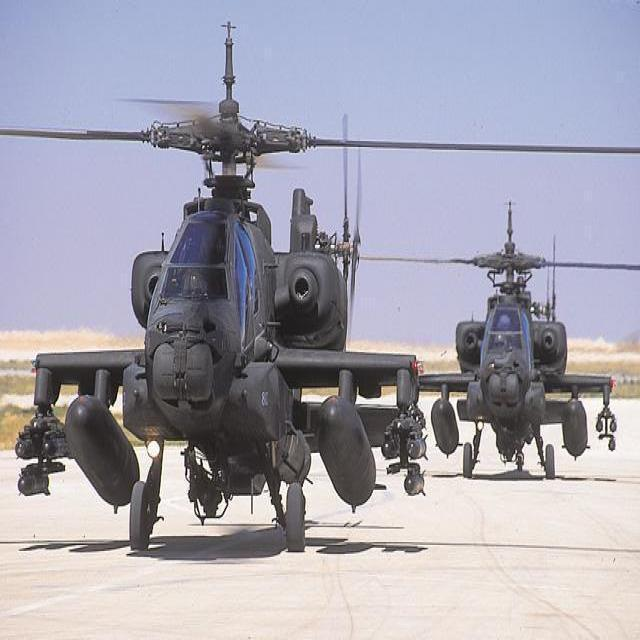MIL_HELO: (49, 60, 424, 530), (324, 175, 620, 475)
